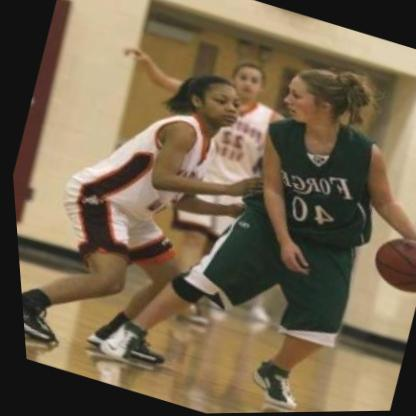basketball: (356, 226, 416, 303)
